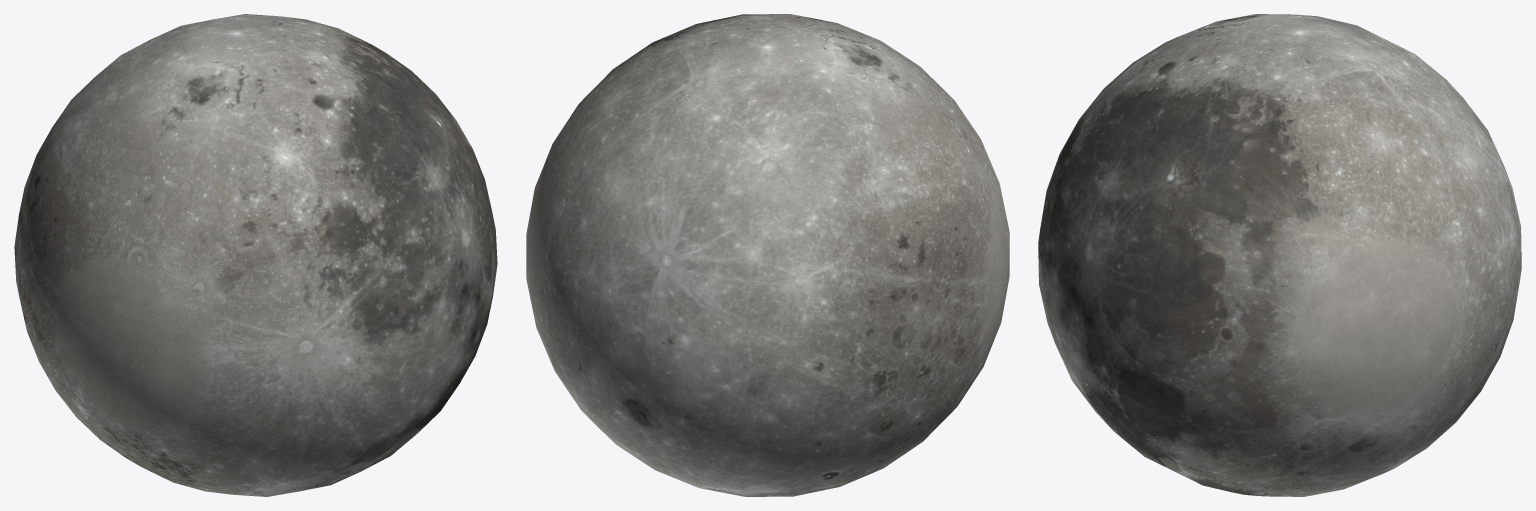
Rendered from moon.glb.
The picture shows the model from 3 angles, left to right: view 1: azimuth 30°, elevation 25°; view 2: azimuth 150°, elevation 25°; view 3: azimuth 270°, elevation 25°; orthographic projection.
Visible parts, largest first — view 1: Sphere; view 2: Sphere; view 3: Sphere.
Part boxes in pixels (<box>): Sphere: <box>14,14,497,496</box>; Sphere: <box>526,14,1009,496</box>; Sphere: <box>1038,14,1521,496</box>.
Bounding box in the file's own units: 1.87 × 1.86 × 1.86.
1 material, 1 textured.
